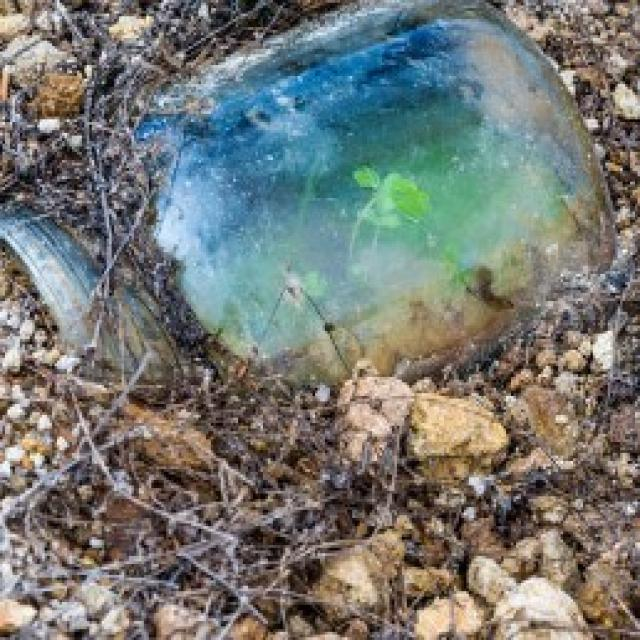electronic: (0, 0, 617, 392)
